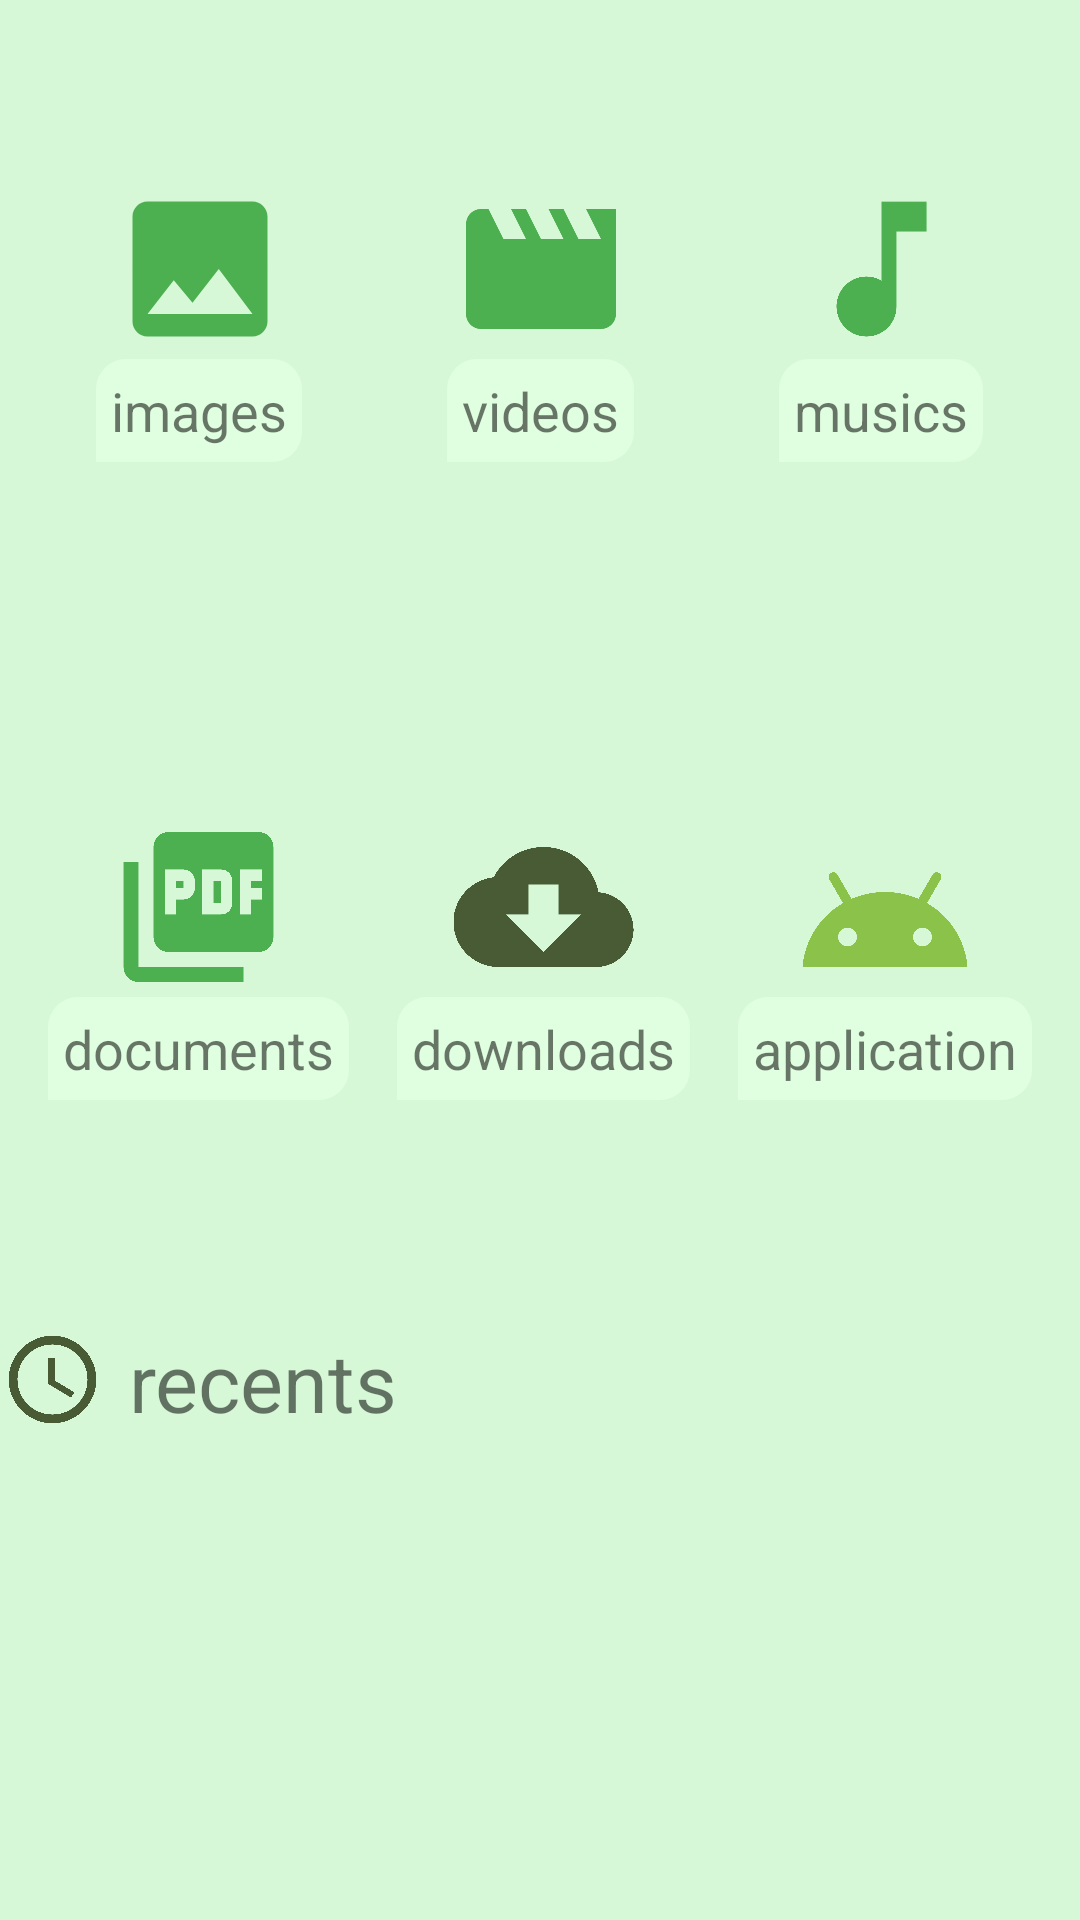

Where icons sit on this 1080px×1920px app screen, as (x1, y1, x2, y2):
movie: (466, 209, 616, 329)
photo: (132, 201, 268, 337)
